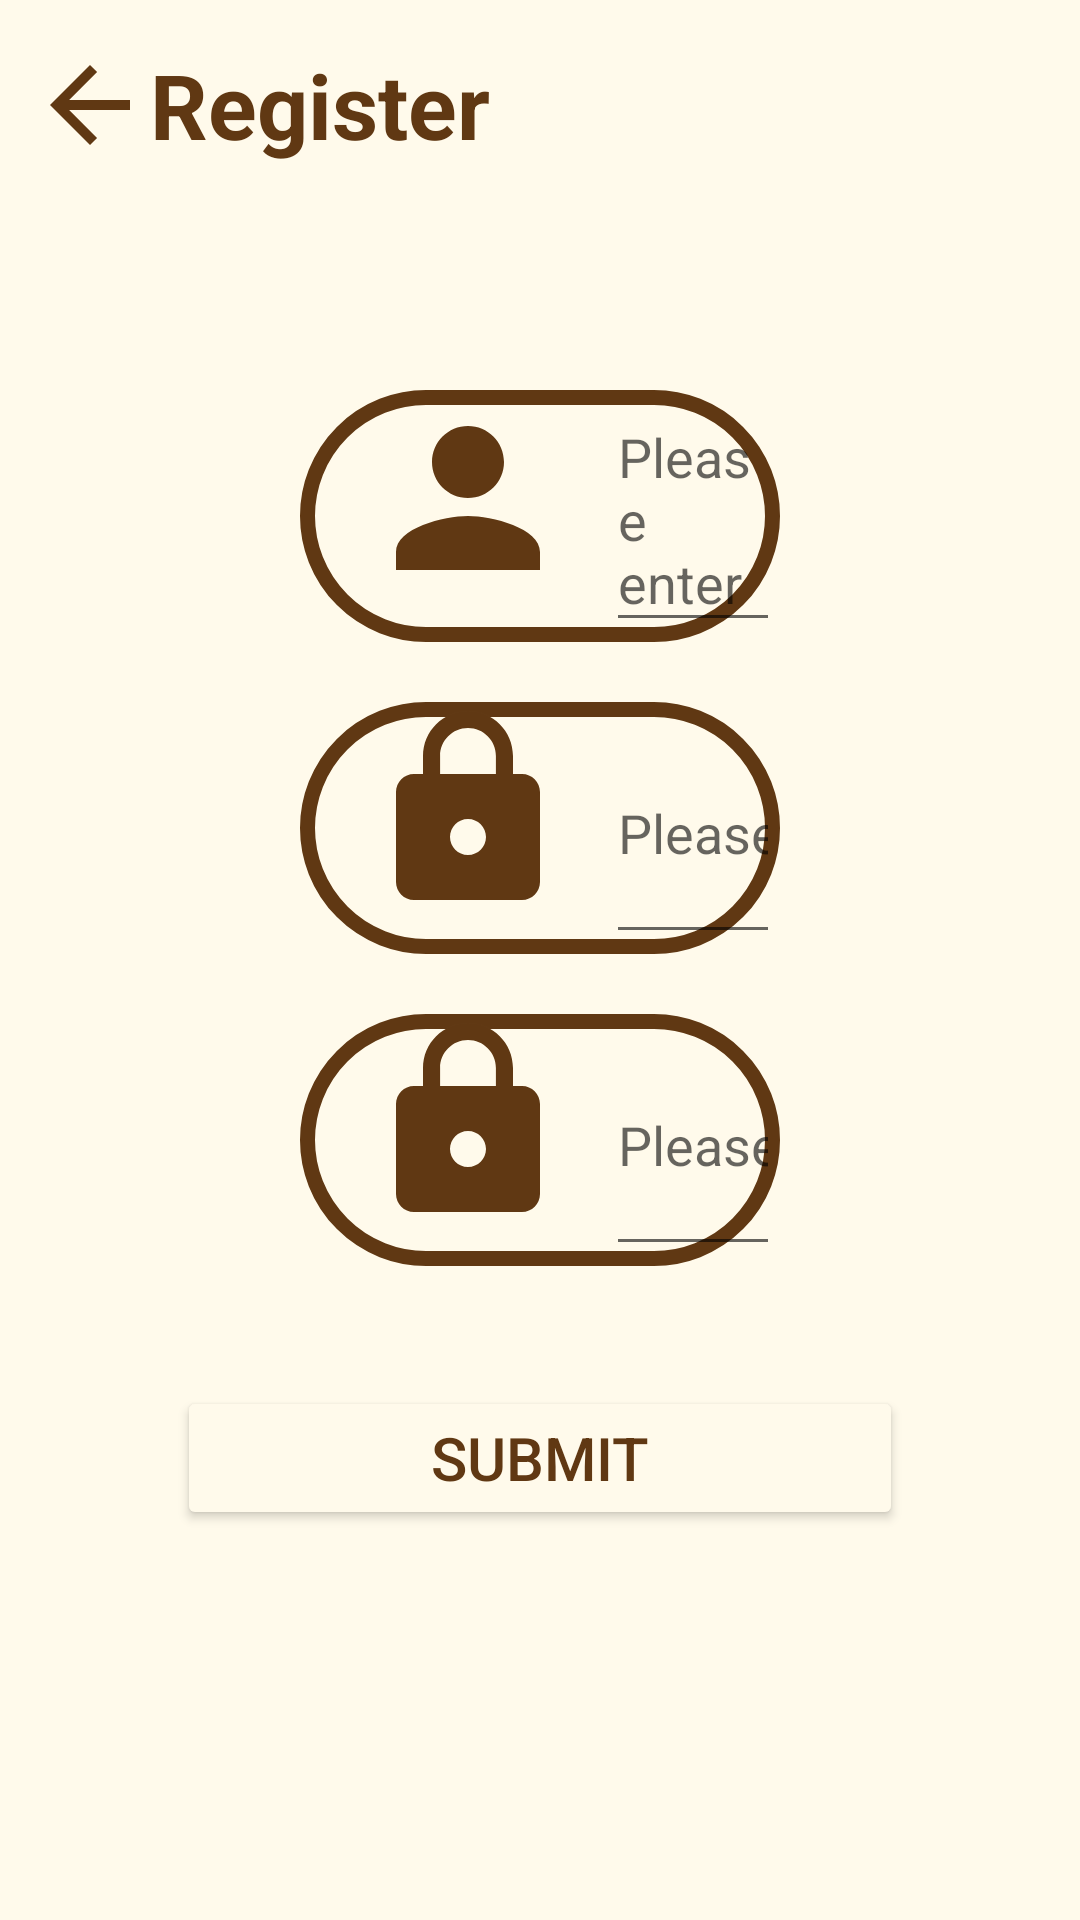

Icons on this 1080×1920 Android screen, each with its box as Rect(x1, y1, x2, y2):
arrow back: Rect(50, 65, 130, 145)
lock: Rect(360, 702, 576, 918), Rect(360, 1014, 576, 1230)
person: Rect(396, 426, 540, 570)
